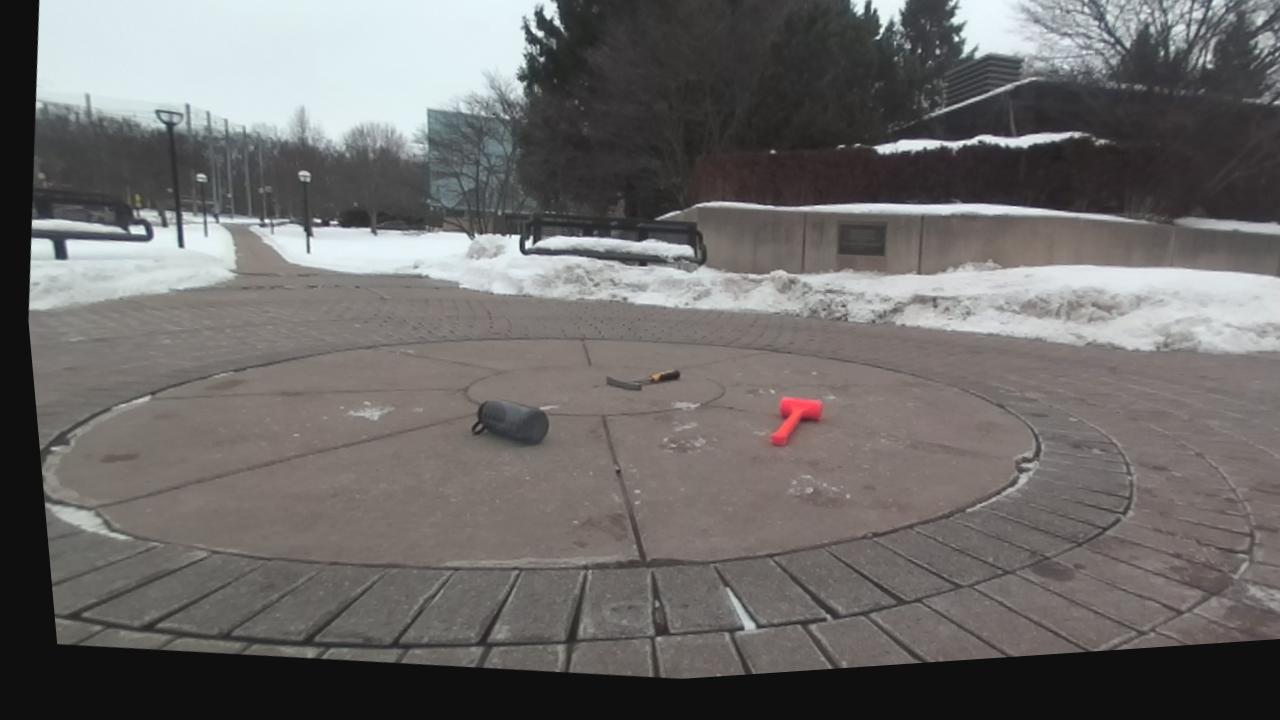bottle: (472, 400, 548, 443)
mallet: (772, 397, 822, 444)
pick: (606, 369, 680, 390)
